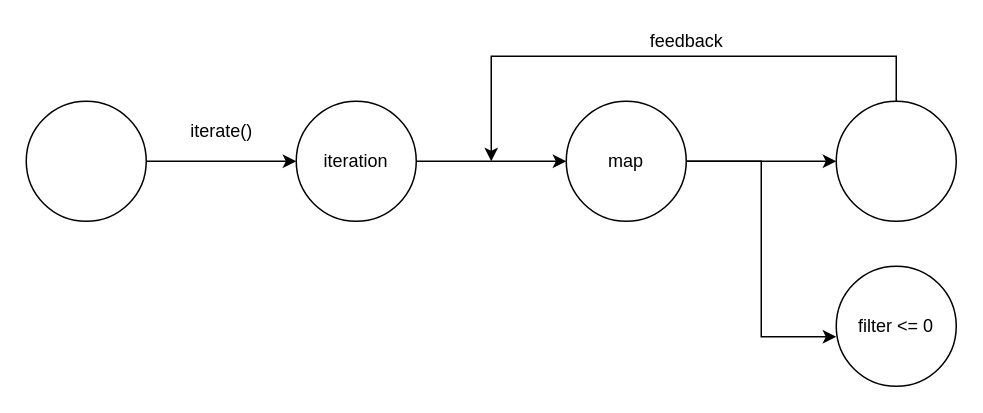
This 983x413 diagram has some shape labels left out. The centre of each missing label's shape, as x and y in pixels:
filter > 0: [895,160]
initial: [85,160]
